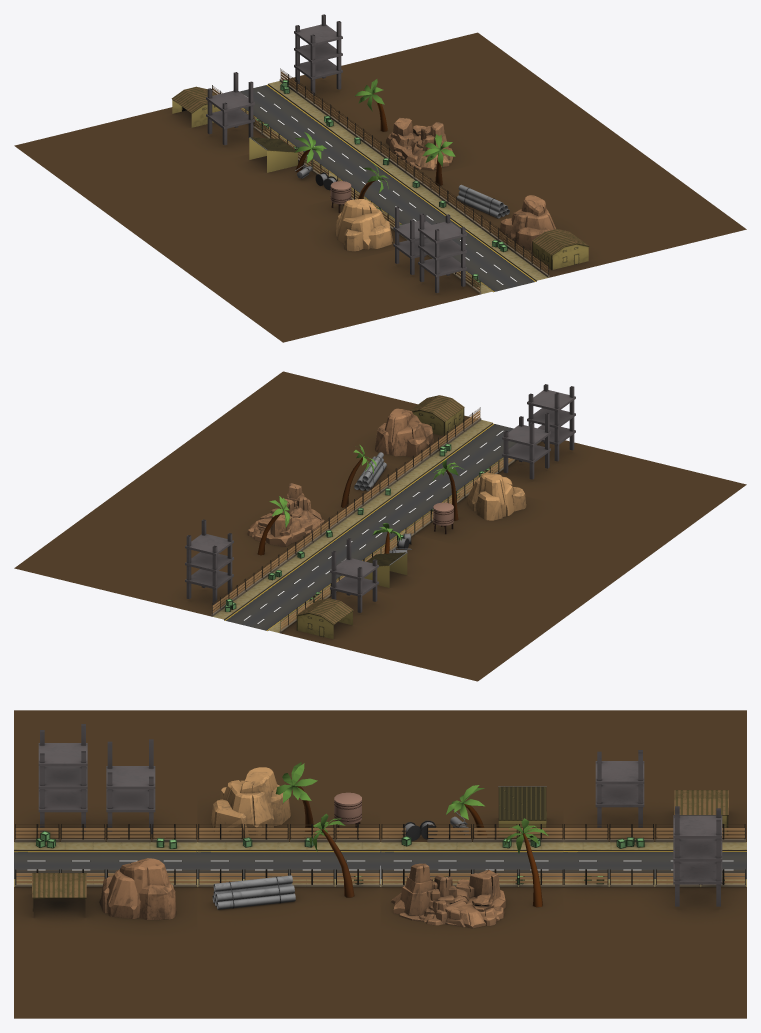
The model's file is Construction01.fbx.
The picture shows the model from 3 angles, top to bottom: view 1: azimuth 30°, elevation 25°; view 2: azimuth 150°, elevation 25°; view 3: azimuth 270°, elevation 25°; orthographic projection. The views are drawn at different scales.
Parts seen in each view (by area): view 1: Con_Map01, Con_Map04, Con_Map03, Con_Map02; view 2: Con_Map04, Con_Map01, Con_Map02, Con_Map03; view 3: Con_Map01, Con_Map02, Con_Map03, Con_Map04.
Part boxes in pixels (x1,y1,x2,y2): Con_Map01: (216, 180, 746, 342); Con_Map04: (14, 14, 544, 194); Con_Map03: (82, 79, 611, 243); Con_Map02: (149, 131, 679, 293); Con_Map04: (14, 519, 544, 681); Con_Map01: (216, 371, 746, 533); Con_Map02: (149, 420, 679, 582); Con_Map03: (81, 470, 611, 632); Con_Map01: (14, 710, 197, 1018); Con_Map02: (197, 710, 380, 1018); Con_Map03: (380, 710, 563, 1018); Con_Map04: (563, 710, 746, 1018).
Size of the model in its own units: 15923 by 2359 by 16000.
